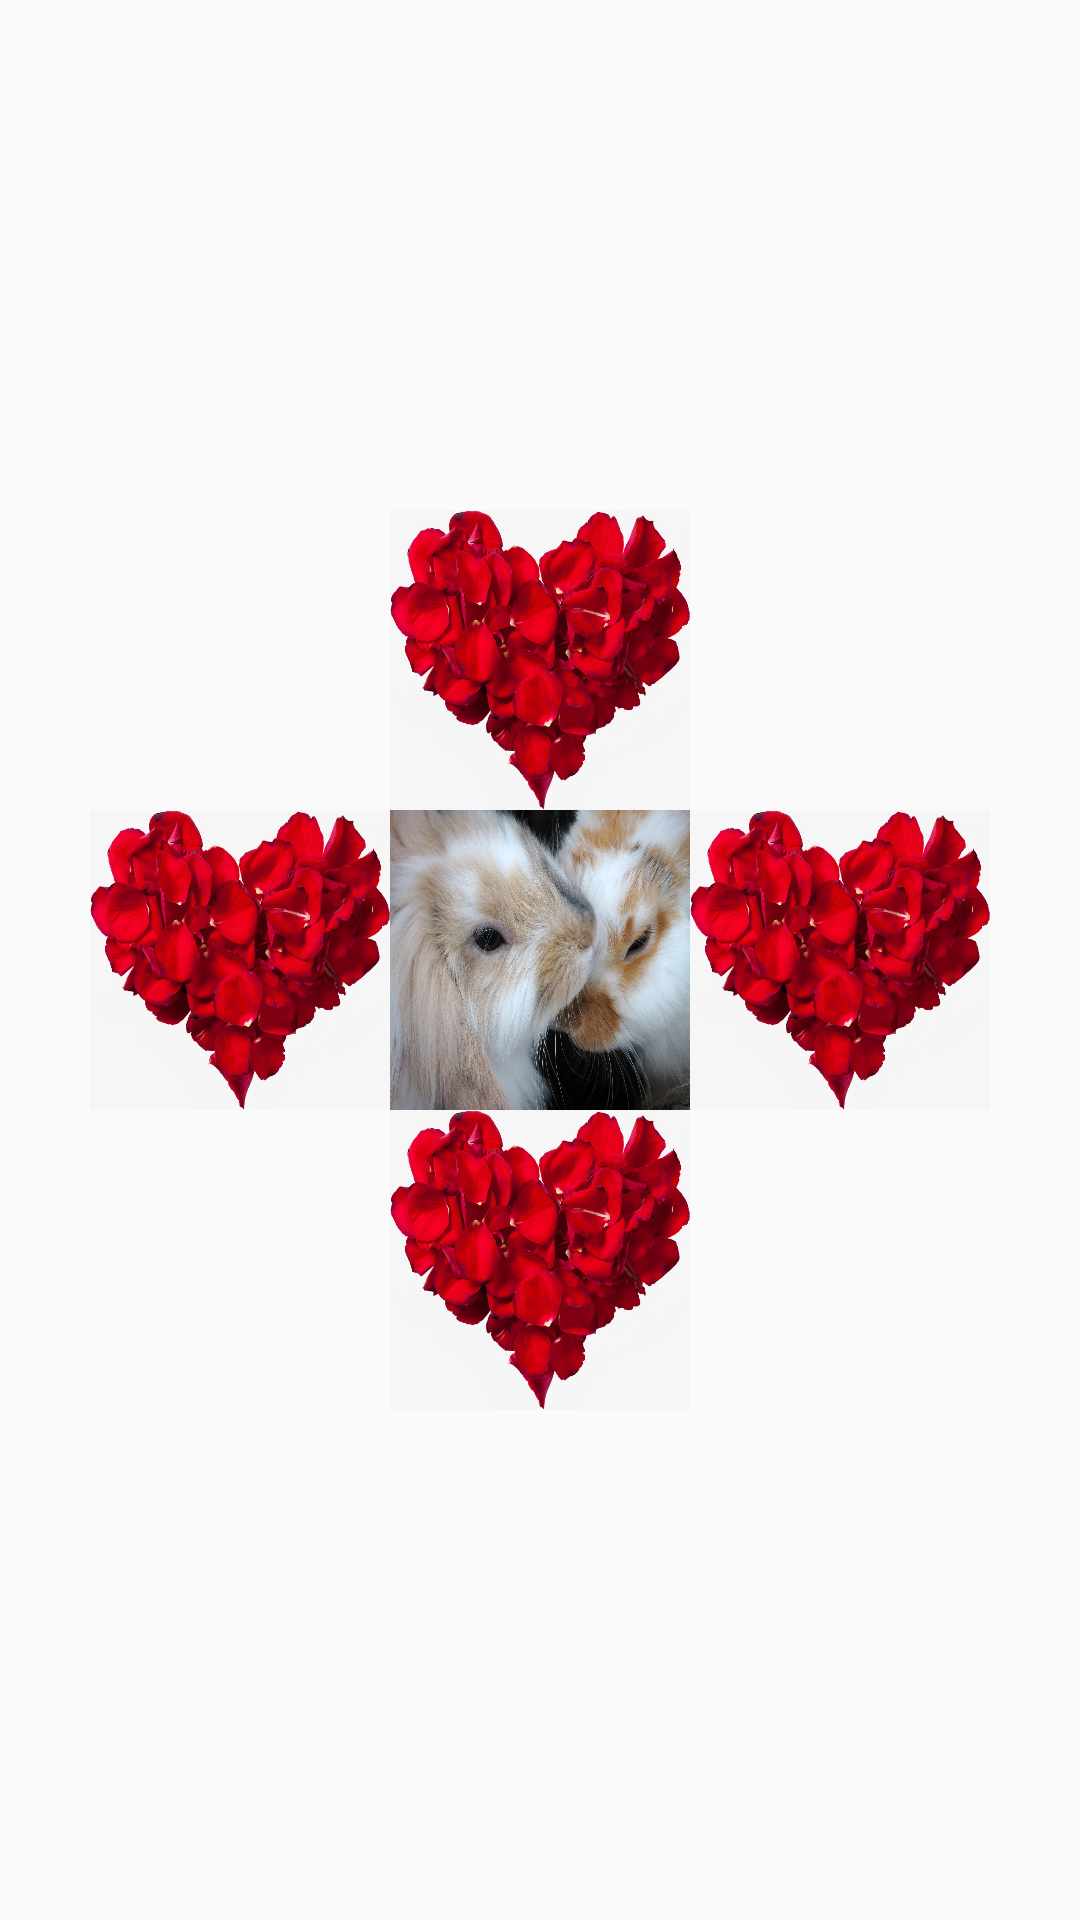

Icons on this 1080*1920 Android screen, each with its box as (x1, y1, x2, y2):
chongwu: (390, 810, 690, 1110)
huaban: (390, 511, 690, 809), (90, 811, 390, 1109), (690, 811, 990, 1109), (390, 1111, 690, 1409)
